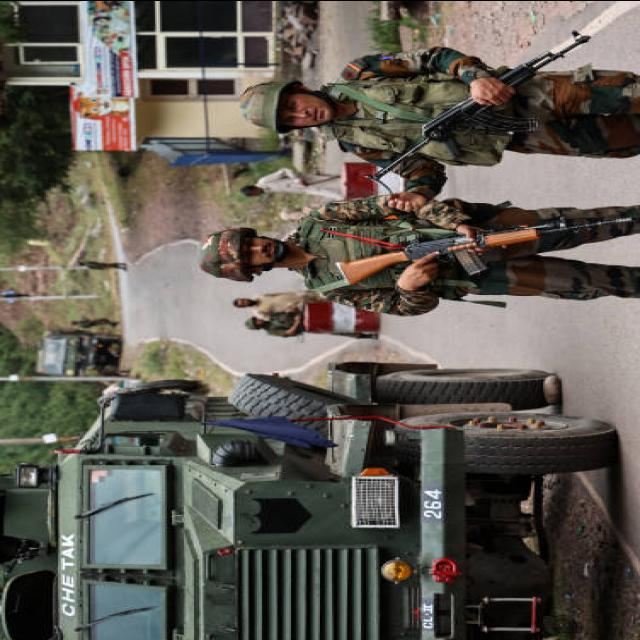LMV: (0, 361, 616, 640), (35, 329, 123, 376)
civilian: (240, 168, 340, 199), (231, 288, 322, 317), (245, 311, 303, 337), (71, 313, 119, 328), (79, 260, 126, 270)
soldier: (240, 26, 640, 213), (201, 194, 640, 315)
